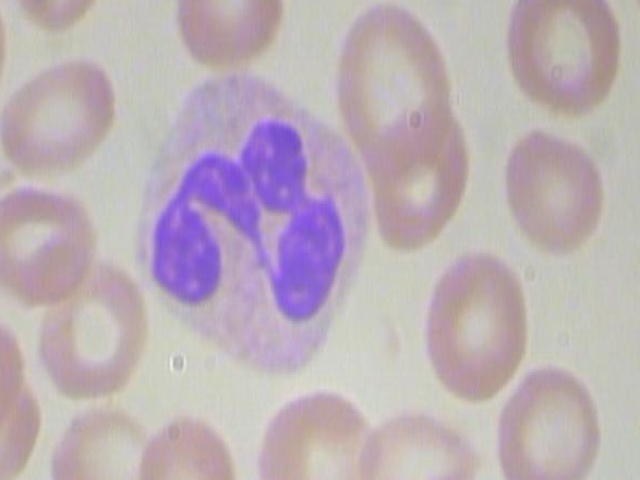RBC: (320, 0, 454, 192), (417, 247, 539, 406), (39, 236, 150, 405), (500, 116, 621, 258), (0, 53, 127, 180), (490, 361, 617, 480), (496, 0, 623, 112), (0, 185, 104, 306), (250, 391, 379, 480), (353, 397, 478, 480), (130, 394, 248, 480), (169, 0, 291, 79), (49, 401, 161, 480), (0, 0, 116, 39)
WBC: (134, 51, 381, 391)
